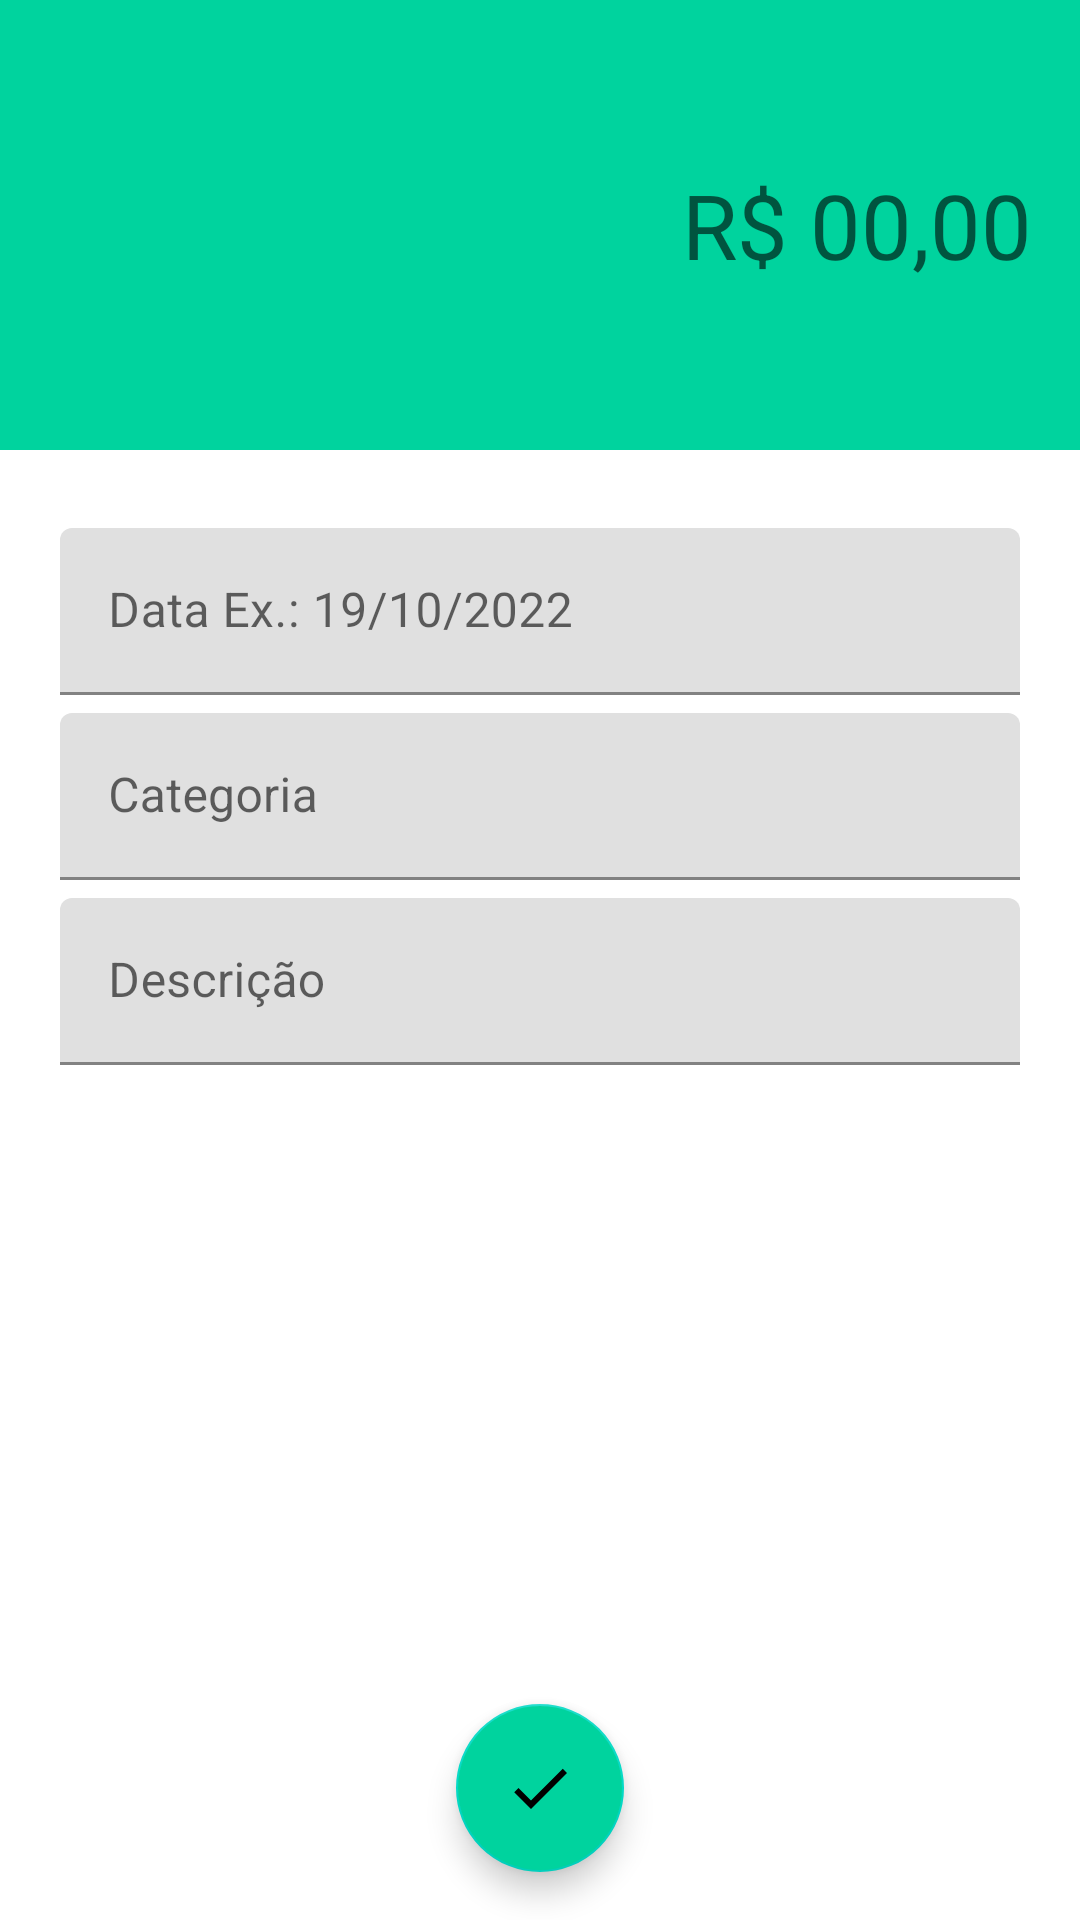

Icon click points for this 1080px x 1920px phone screenshot, format (x,y):
check: (540,1788)
